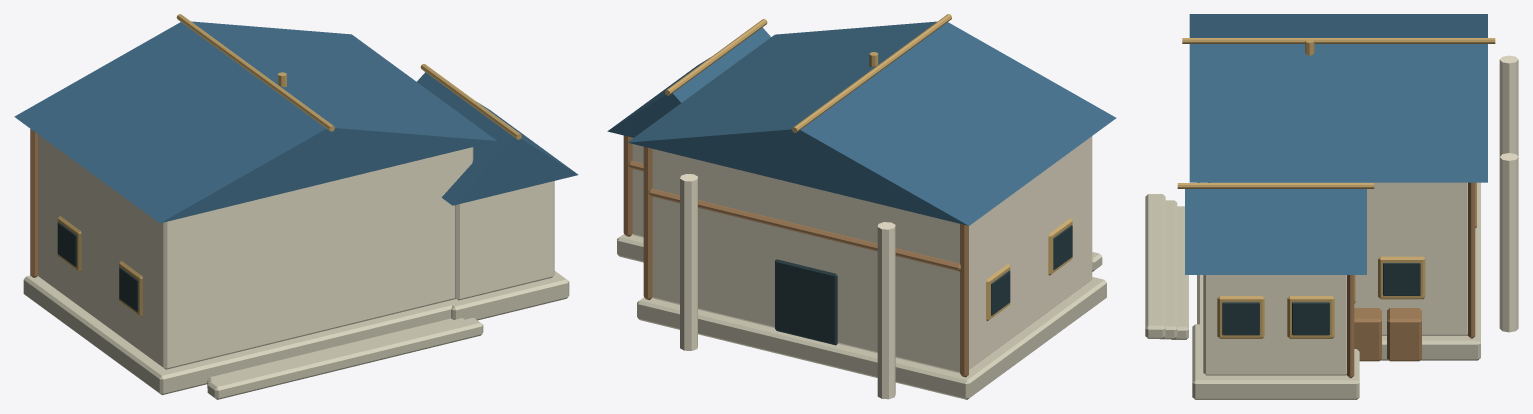
Rendered from level_19.glb.
The picture shows the model from 3 angles, left to right: view 1: azimuth 30°, elevation 25°; view 2: azimuth 150°, elevation 25°; view 3: azimuth 270°, elevation 25°; orthographic projection. The views are drawn at different scales.
Visible parts, largest first — view 1: warehouse — level 19; view 2: warehouse — level 19; view 3: warehouse — level 19.
Boxes of the visible parts, x1,y1,x2,y2 form: warehouse — level 19: [14, 14, 578, 399]; warehouse — level 19: [607, 14, 1116, 399]; warehouse — level 19: [1145, 14, 1518, 399].
Bounding box in the file's own units: 6.77 × 3.71 × 5.13.
